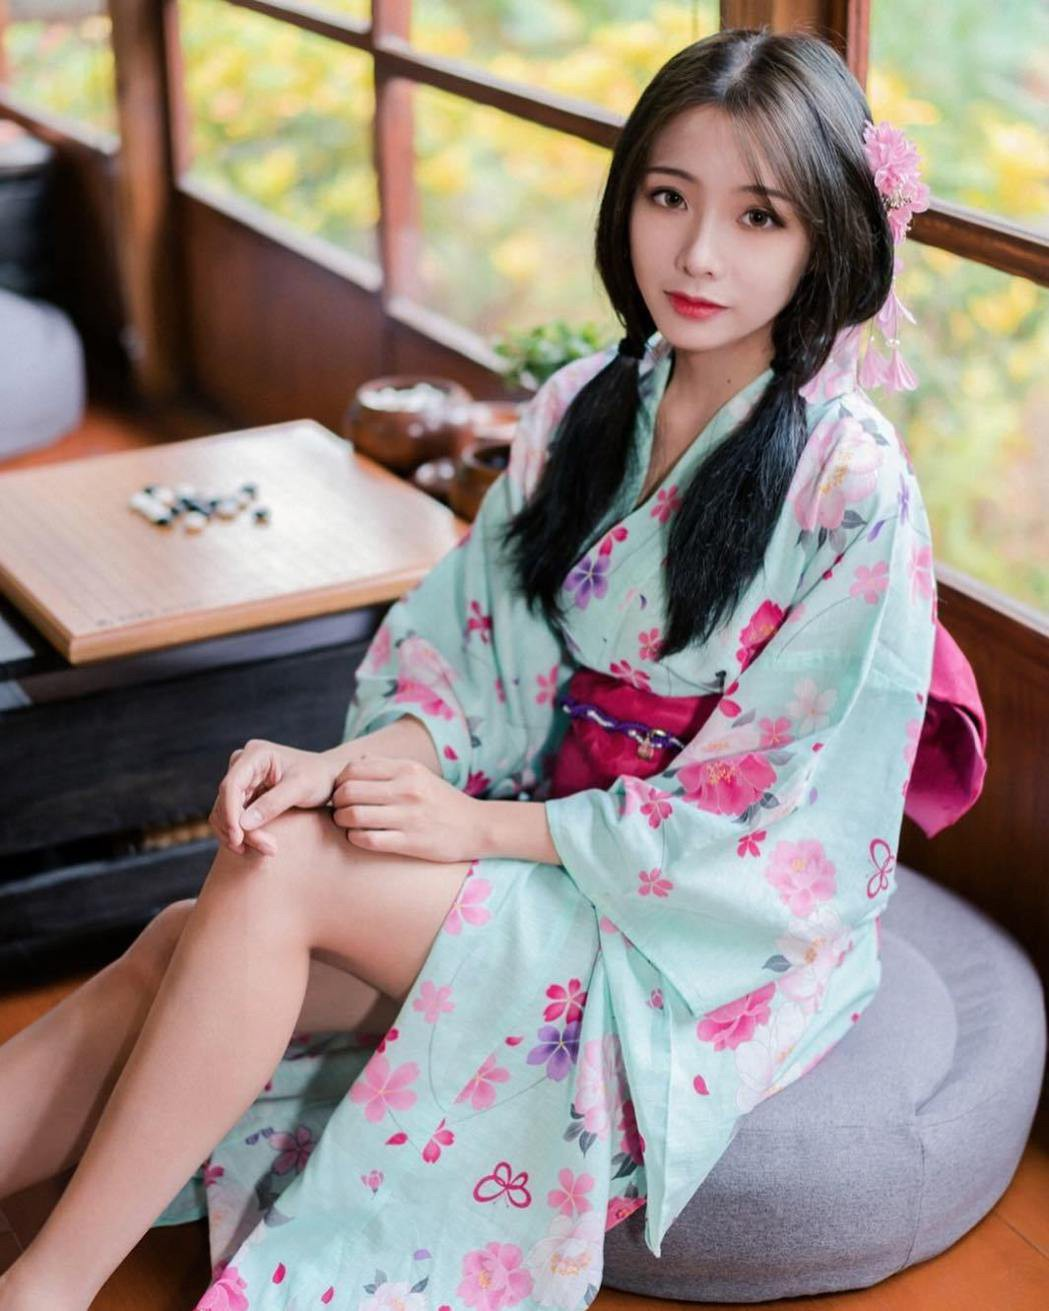people: (425, 21, 927, 1279)
